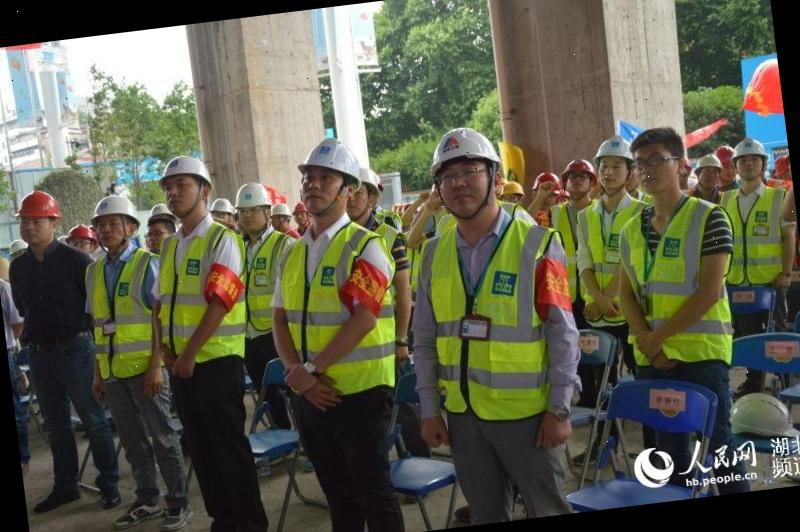helmet: (291, 132, 363, 196), (426, 123, 501, 172), (15, 188, 66, 224), (88, 190, 140, 224), (160, 152, 210, 184), (559, 156, 600, 190), (230, 178, 272, 210), (593, 134, 636, 164), (730, 136, 770, 164), (354, 164, 384, 196), (692, 152, 724, 175), (206, 194, 235, 218), (65, 224, 98, 244), (268, 200, 292, 222), (530, 171, 557, 189), (714, 143, 736, 163)
no_wear: (4, 246, 89, 350)
wear: (411, 220, 576, 428), (272, 219, 400, 391), (625, 200, 735, 368), (152, 224, 254, 376), (79, 248, 171, 387), (578, 200, 641, 322), (720, 185, 790, 291), (240, 229, 299, 341)
